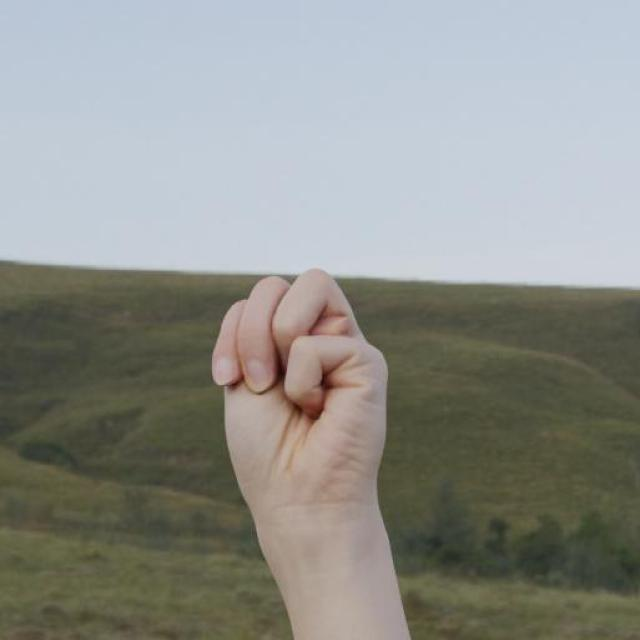M: (207, 264, 394, 527)
